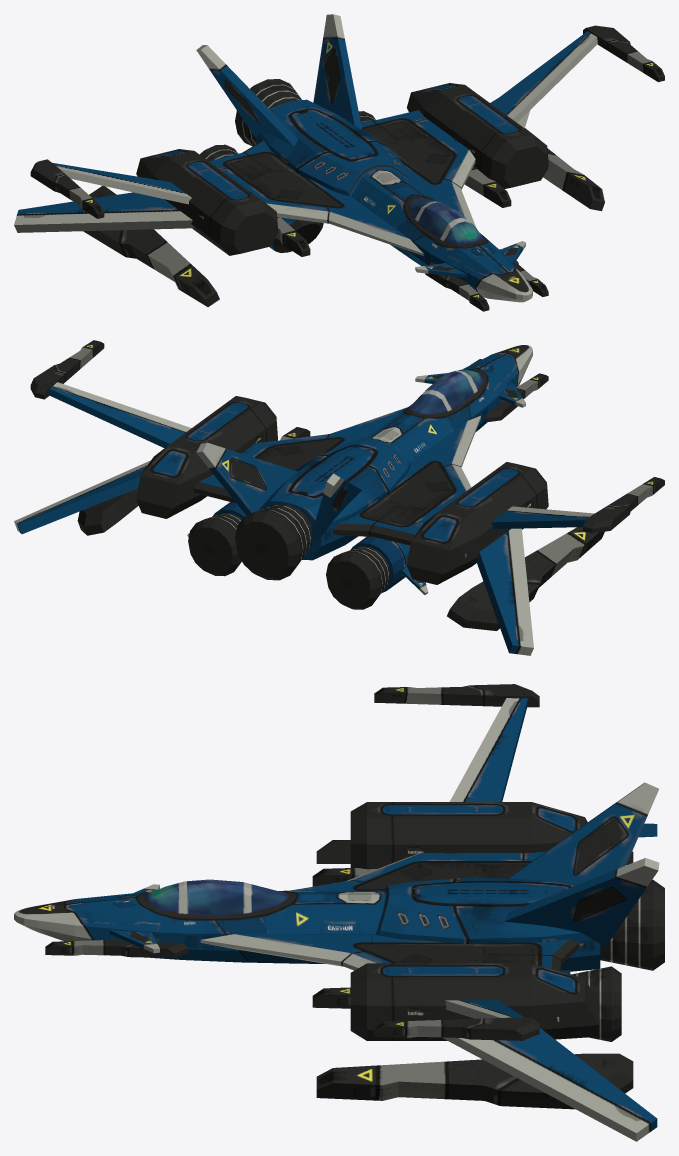
Rendered from zxx-1.glb.
The picture shows the model from 3 angles, top to bottom: view 1: azimuth 30°, elevation 25°; view 2: azimuth 150°, elevation 25°; view 3: azimuth 270°, elevation 25°; orthographic projection. The views are drawn at different scales.
Visible parts, largest first — view 1: StarSparrow01_Mesh.117; view 2: StarSparrow01_Mesh.117; view 3: StarSparrow01_Mesh.117.
Boxes of the visible parts, left/top/right/bottom form: StarSparrow01_Mesh.117: left=14, top=14, right=664, bottom=311; StarSparrow01_Mesh.117: left=14, top=340, right=664, bottom=655; StarSparrow01_Mesh.117: left=14, top=684, right=664, bottom=1141.
Size of the model in its own units: 13.64 by 3.26 by 10.85.
Materials: 1 (1 with a texture image).
